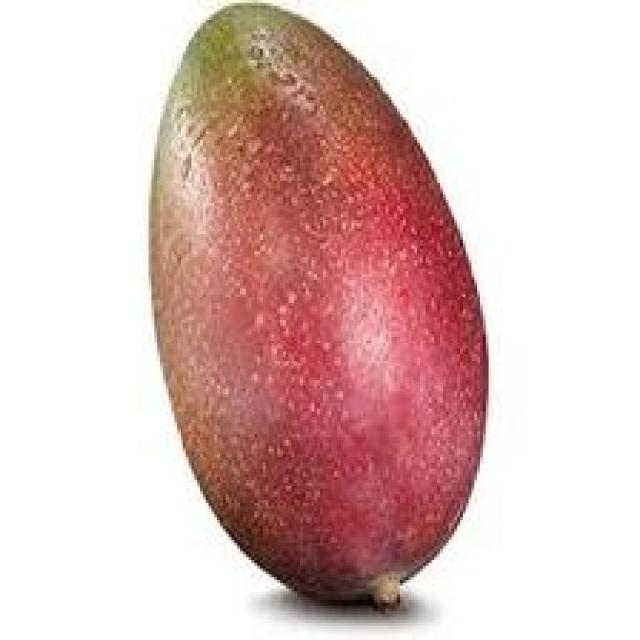Good_Mango: (146, 3, 491, 614)
